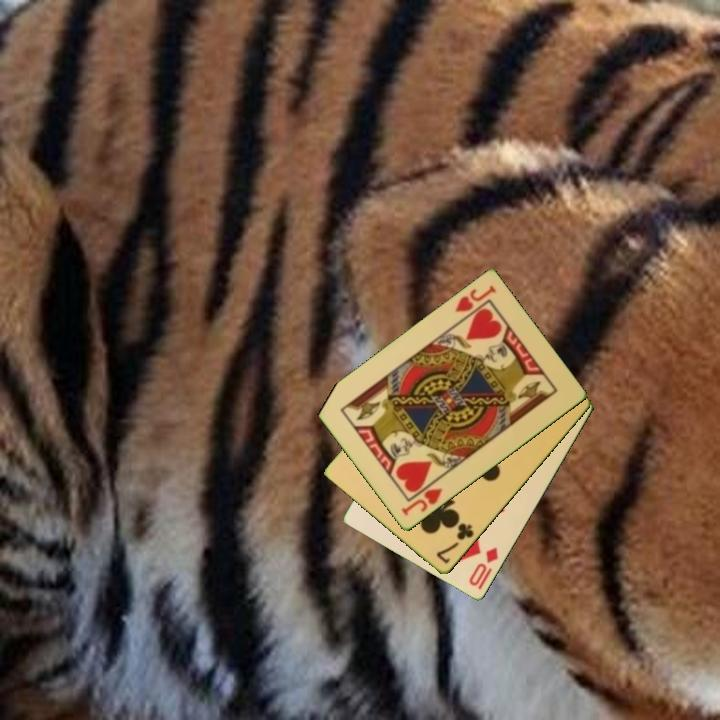10d: (465, 544, 501, 589)
7c: (433, 520, 477, 567)
Jh: (398, 476, 446, 519), (451, 282, 499, 316)
